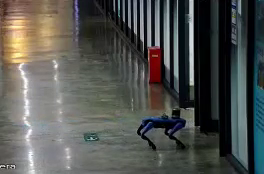robot dog: (135, 105, 189, 152)
